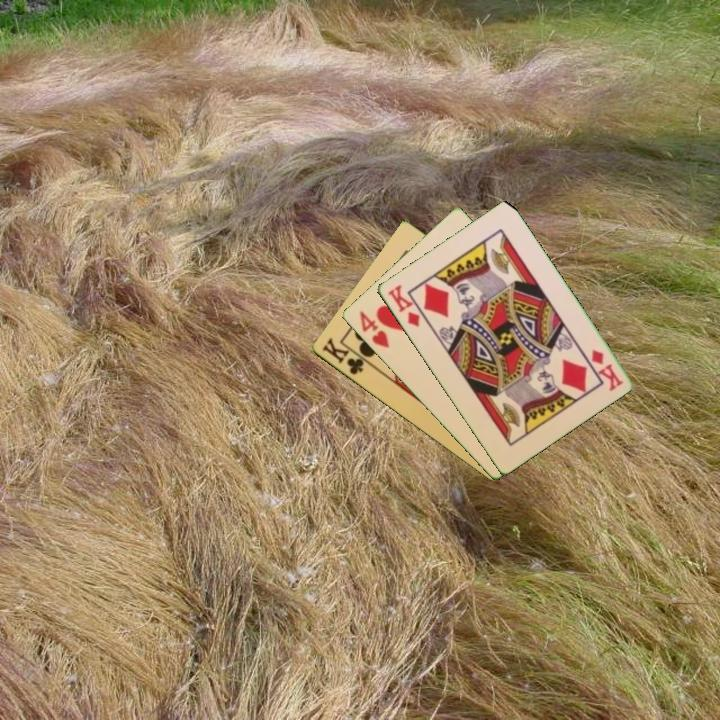4h: (355, 307, 392, 351)
Kc: (318, 334, 373, 378)
Kd: (384, 281, 423, 330), (587, 346, 626, 393)
